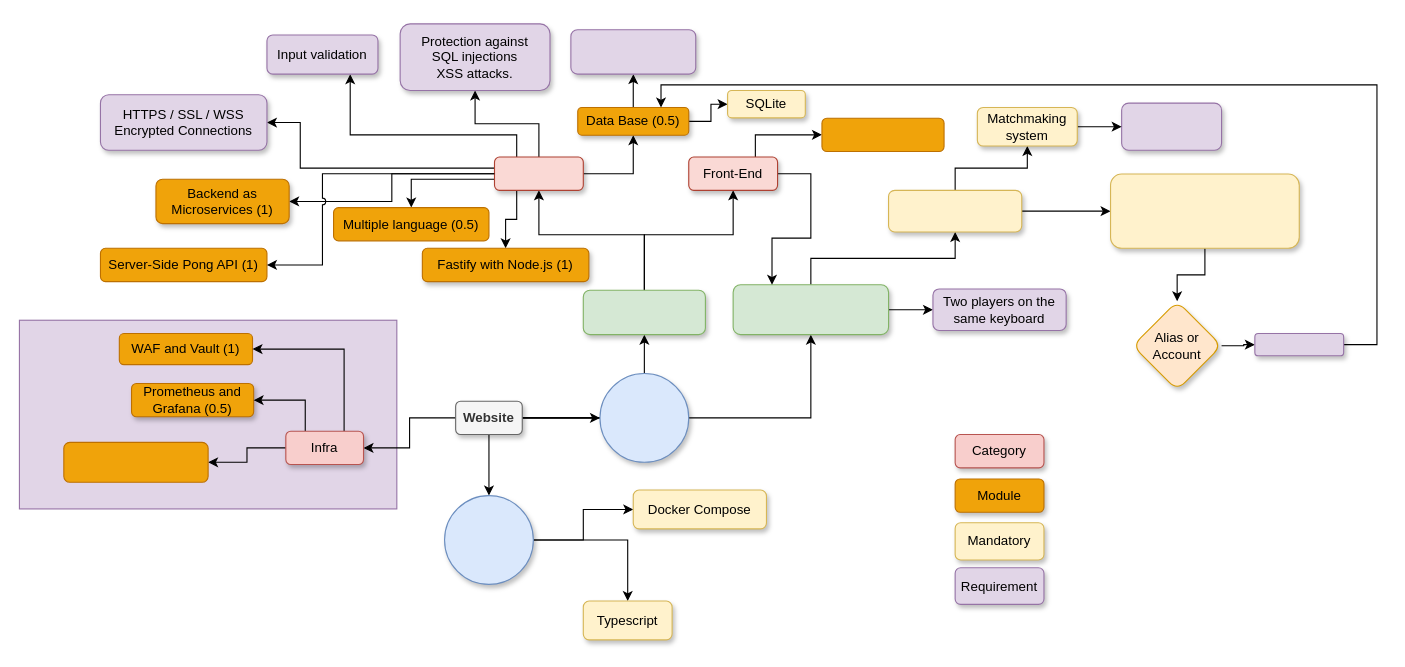
Some shapes in this 1405 by 667 pixel diagram are drawn without their labels. Here are the shapes that lost their labels. From the top down, the centre of each, then its label:
At point 633,53: "Store Passwords Strongly Hashed".
At point 882,134: "Tailwind CSS Framework (0.5)".
At point 1172,128: "Show Rivals and Order".
At point 539,175: "Back-End".
At point 955,212: "Tournament system".
At point 1205,212: "Registration System at the start of tournament".
At point 645,313: "Single-Page Application".
At point 811,310: "Real-time multiplayer Pong Game (1972)".
At point 1299,346: "Alias".
At point 644,419: "Definitions".
At point 135,461: "Log Management ELK (1)".
At point 489,541: "Tools".
